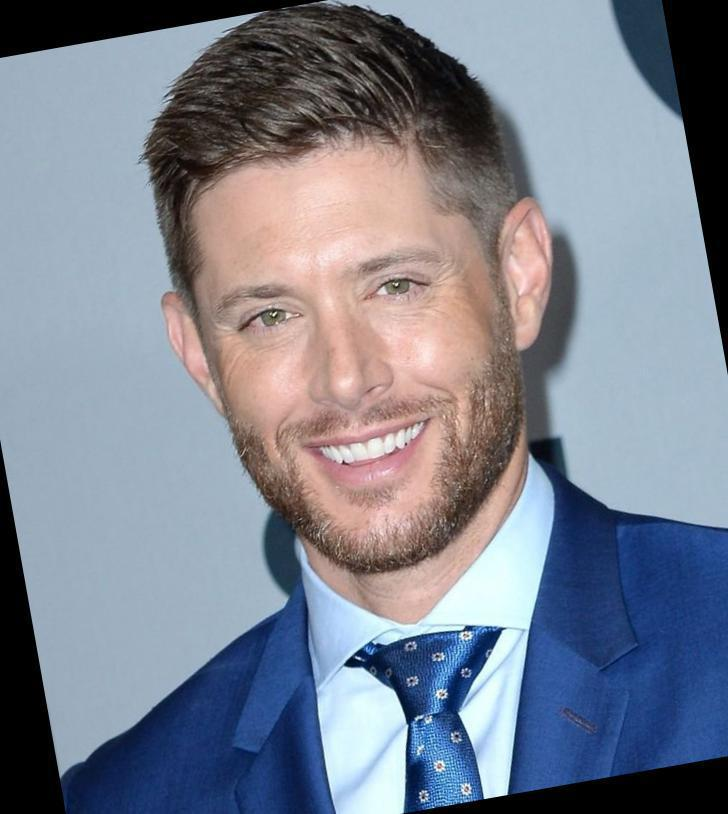Sober: (194, 182, 500, 537)
